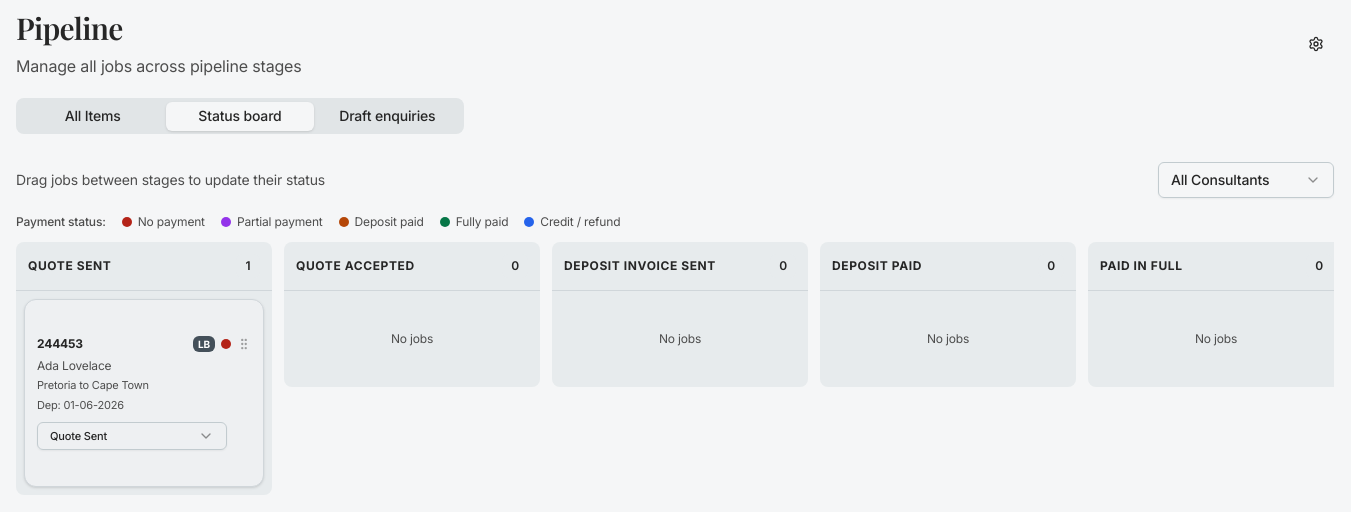
Test: PipelinePage reference display › matches the All Items search against the invoice number
Press the mouse on the tab "All Items" at (93, 116), box x1=19 y1=102 x2=166 y2=130
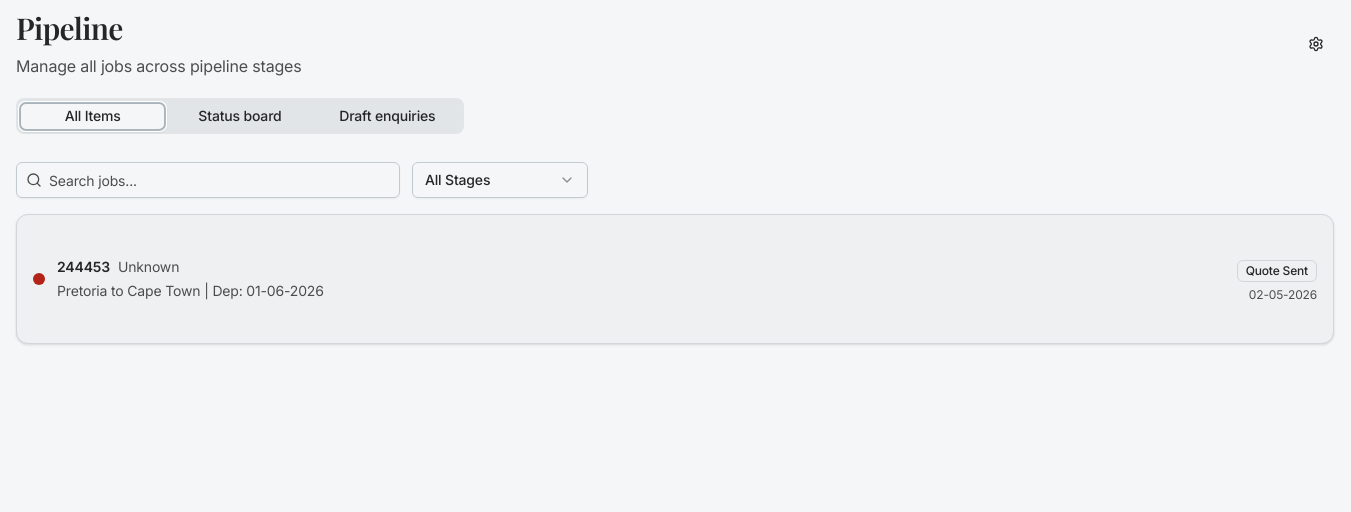
Type "2444" into the field with placeholder "Search jobs...".
click(208, 180); type("2444")  # box x1=16 y1=162 x2=400 y2=198
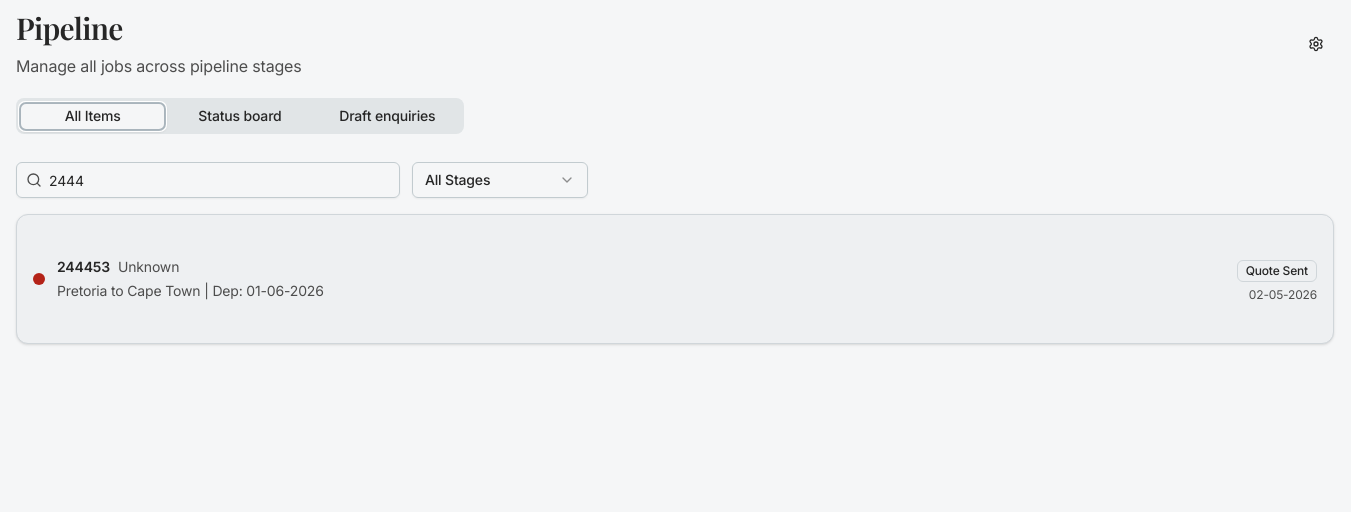
expect the text "244453" is shown: met, box x1=57 y1=257 x2=110 y2=277
Replace the text in the field with placeholder "Search jobs..." with "no-such-ref" at (208, 180), box x1=16 y1=162 x2=400 y2=198
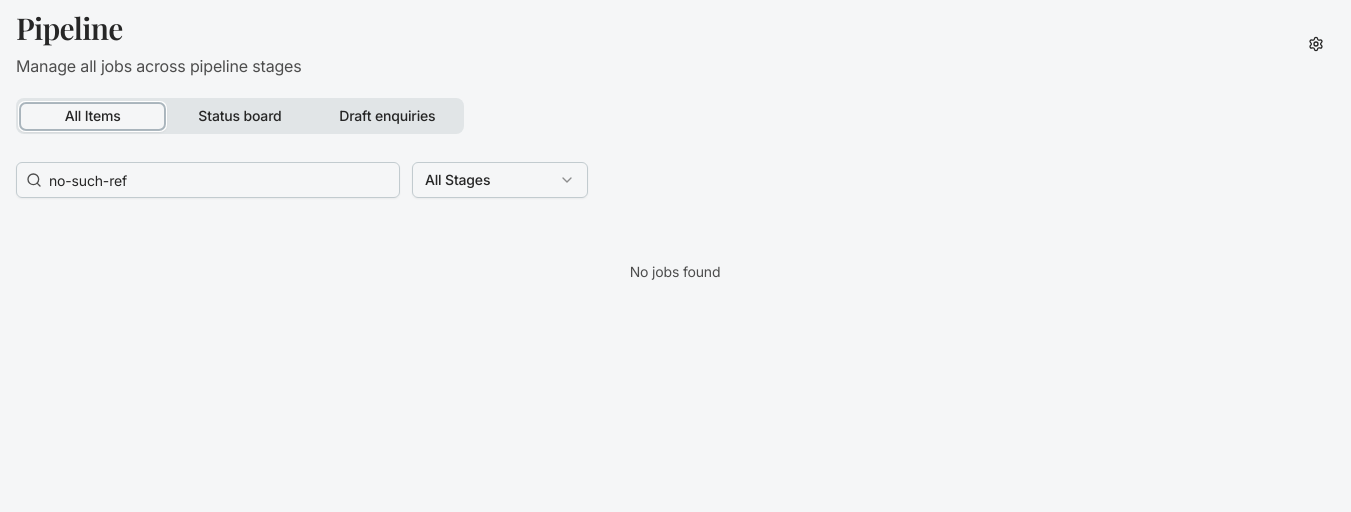
expect the text "No jobs found" is shown: met, box x1=630 y1=263 x2=720 y2=280
